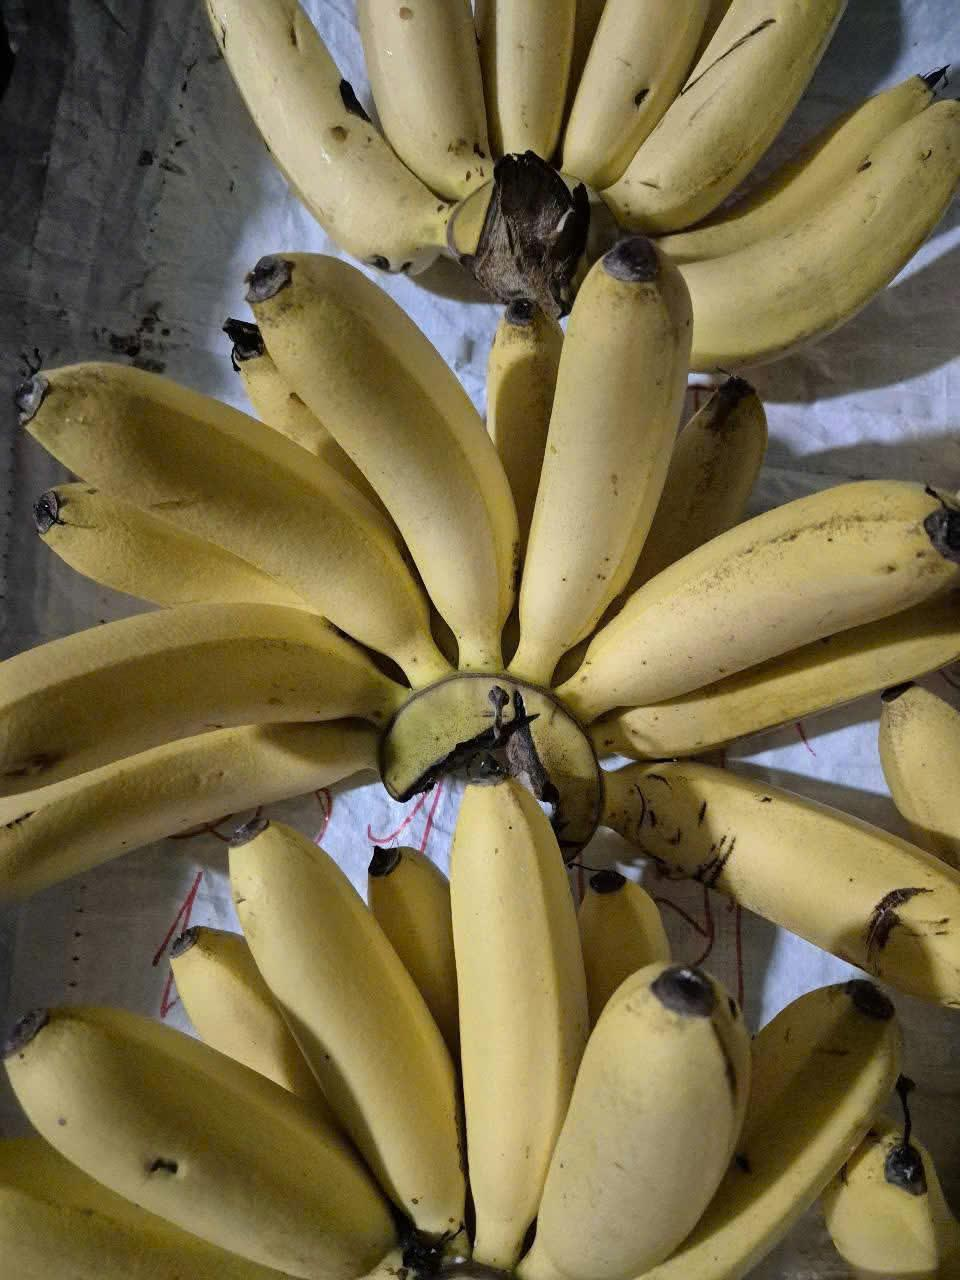banana: (179, 0, 960, 316), (7, 370, 454, 880), (0, 806, 461, 1279), (497, 250, 960, 663), (573, 670, 960, 1020)
